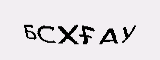А: (23, 8, 51, 35)
С: (64, 7, 80, 33)
Ч: (115, 1, 136, 29)
Щ: (78, 1, 117, 33)
Э: (49, 9, 65, 35)
